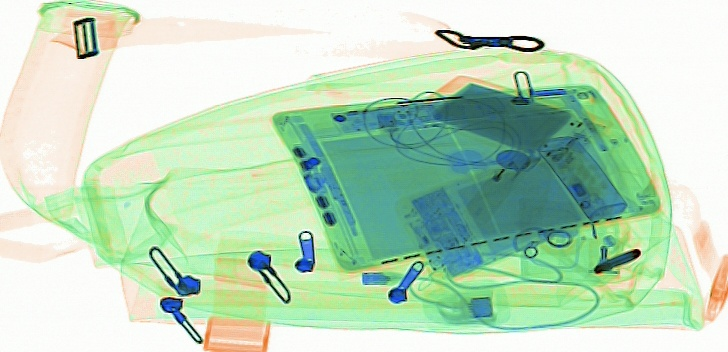lighter: (453, 147, 539, 241)
